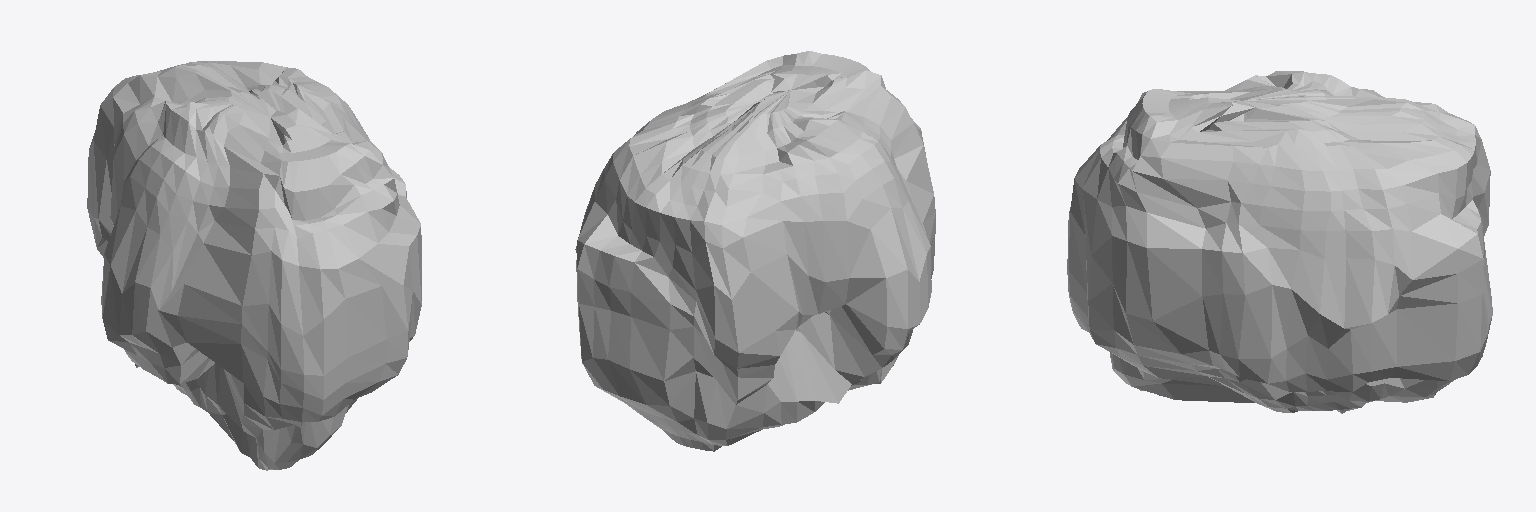
The model's file is Asteroide2.obj.
The picture shows the model from 3 angles: view 1: azimuth 30°, elevation 25°; view 2: azimuth 150°, elevation 25°; view 3: azimuth 270°, elevation 25°; orthographic projection.
Parts seen in each view (by area): view 1: Sphere; view 2: Sphere; view 3: Sphere.
Boxes of the visible parts, box(x1,y1,x2,y2) form: Sphere: box(87, 61, 421, 470); Sphere: box(575, 51, 935, 451); Sphere: box(1067, 71, 1492, 413).
Size of the model in its own units: 2.44 by 2.54 by 3.06.